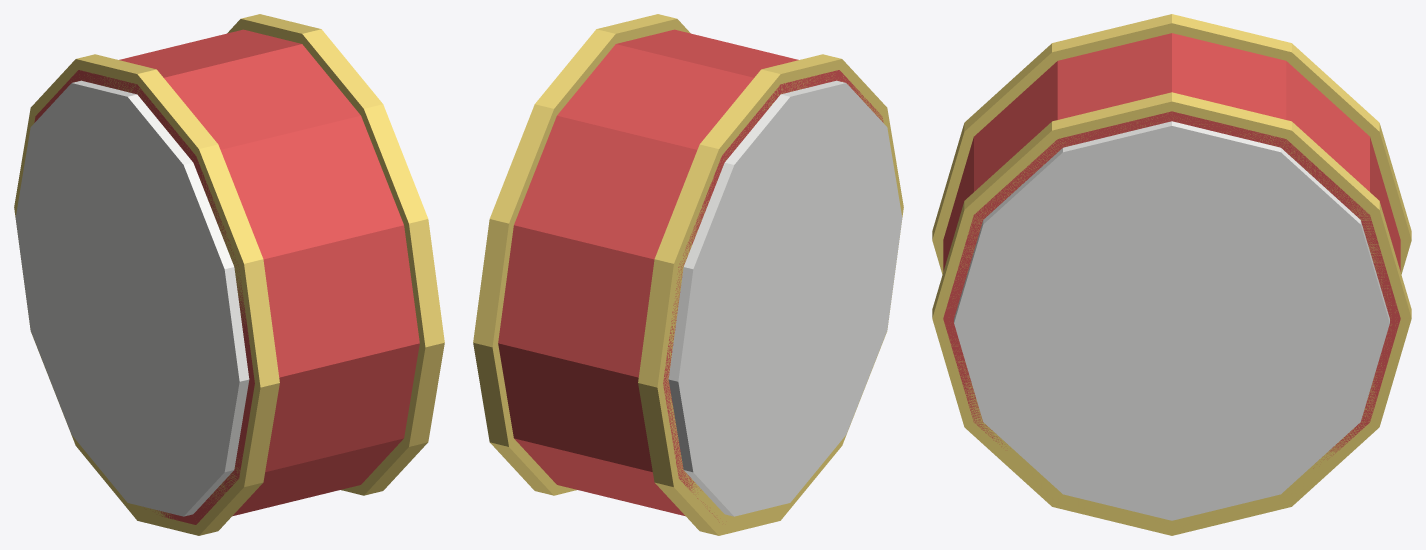
File: VJ_Bombo.fbx
3 renders of one model, left to right at view 1: azimuth 30°, elevation 25°; view 2: azimuth 150°, elevation 25°; view 3: azimuth 270°, elevation 25°, orthographic. The views are drawn at different scales.
Parts seen in each view (by area): view 1: VJ_Bombo; view 2: VJ_Bombo; view 3: VJ_Bombo.
Boxes of the visible parts, x1,y1,x2,y2 form: VJ_Bombo: (14,14,444,535); VJ_Bombo: (473,14,903,535); VJ_Bombo: (932,14,1411,535).
Size of the model in its own units: 0.42 by 0.88 by 0.88.
